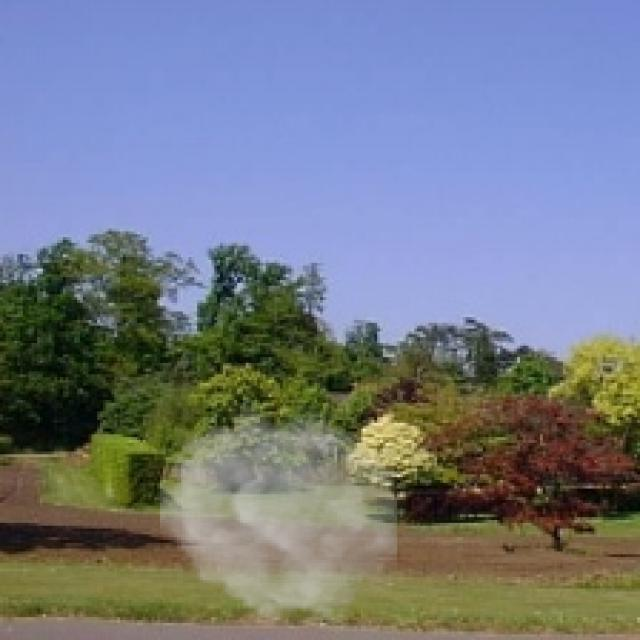smoke: (160, 400, 397, 631)
